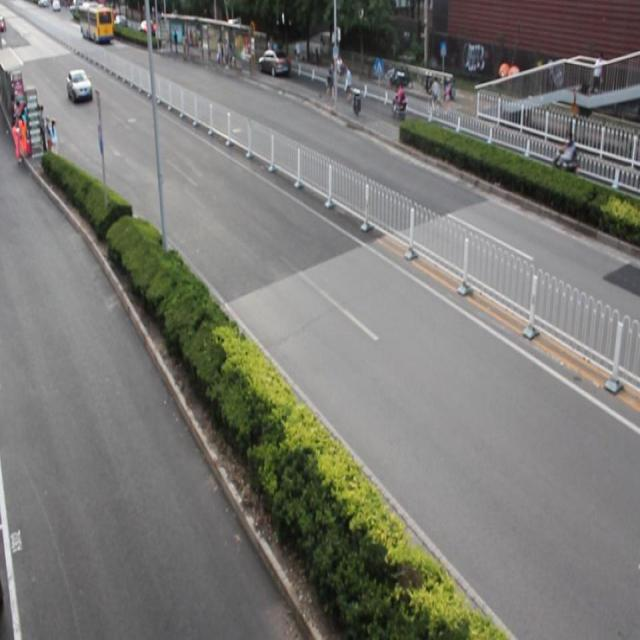car: (258, 46, 290, 78)
